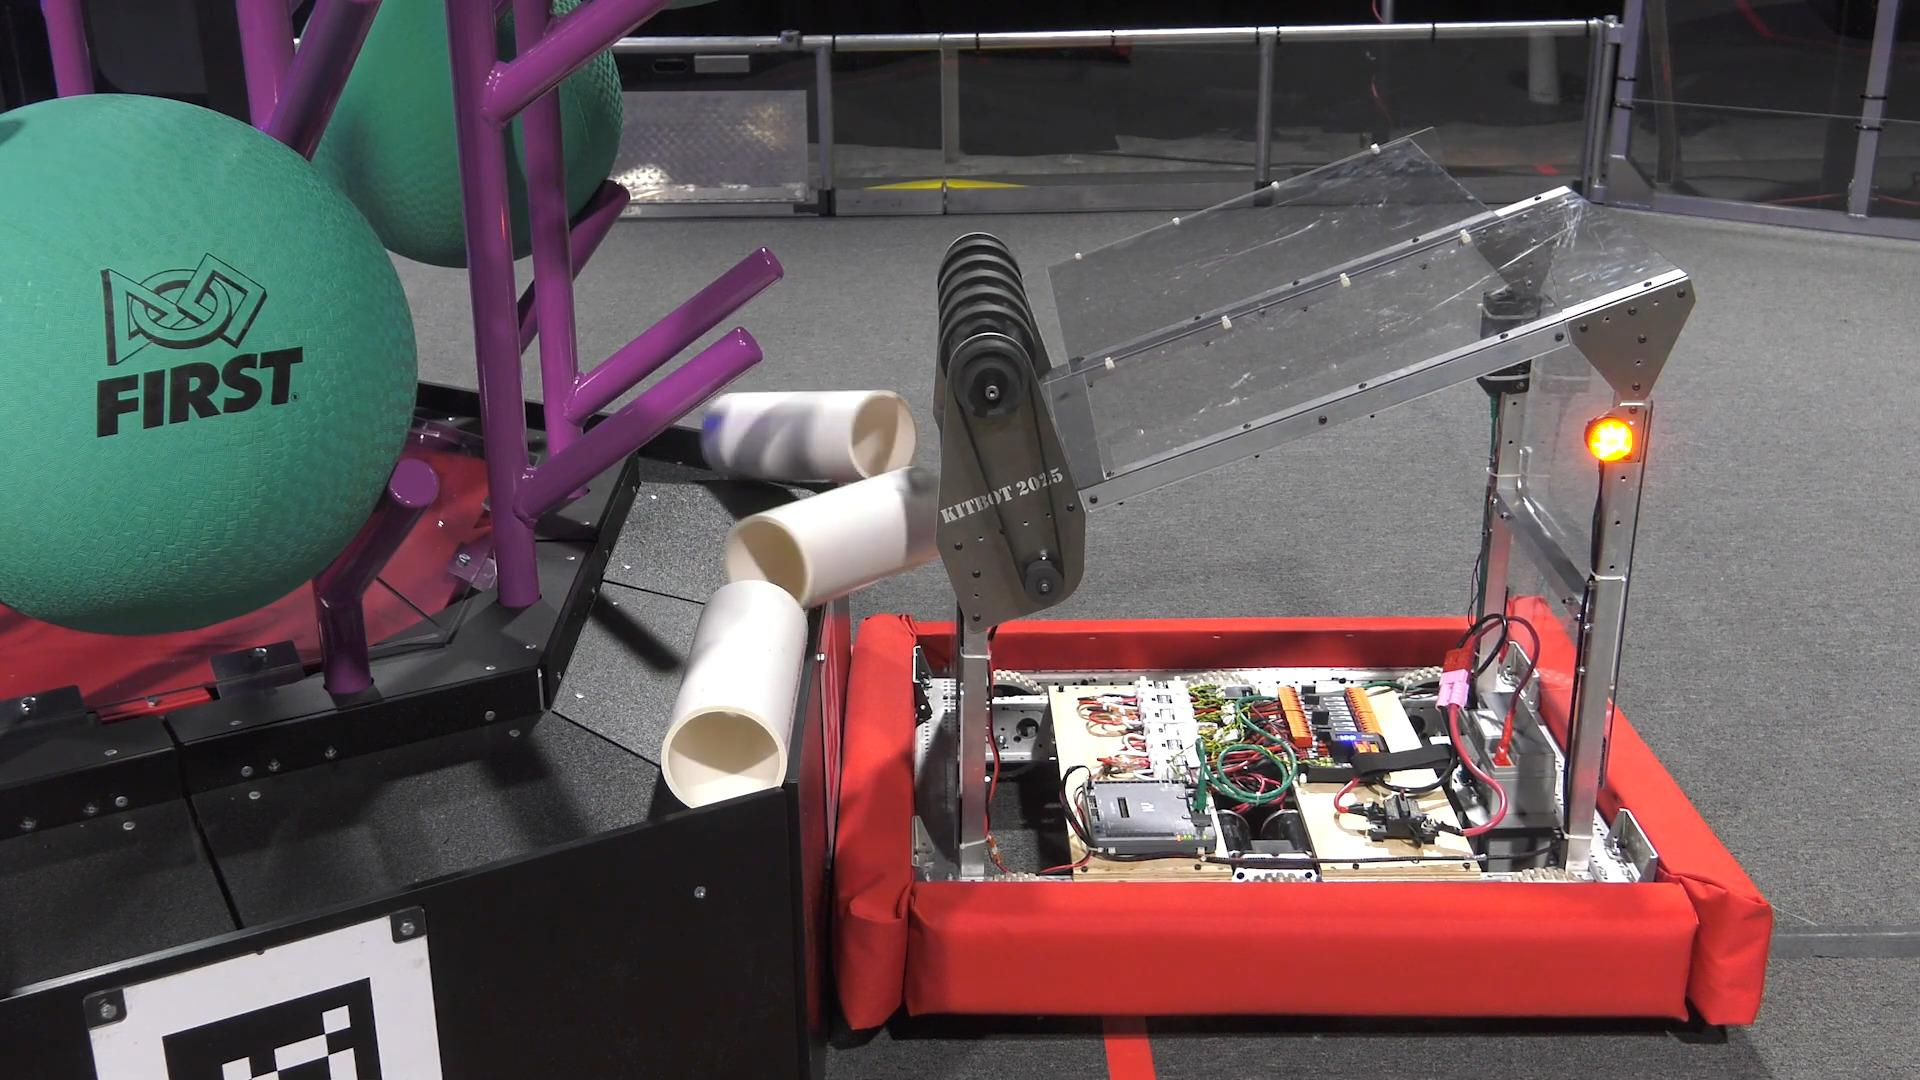coral: (657, 578, 808, 808), (721, 464, 940, 609), (698, 386, 916, 483)
